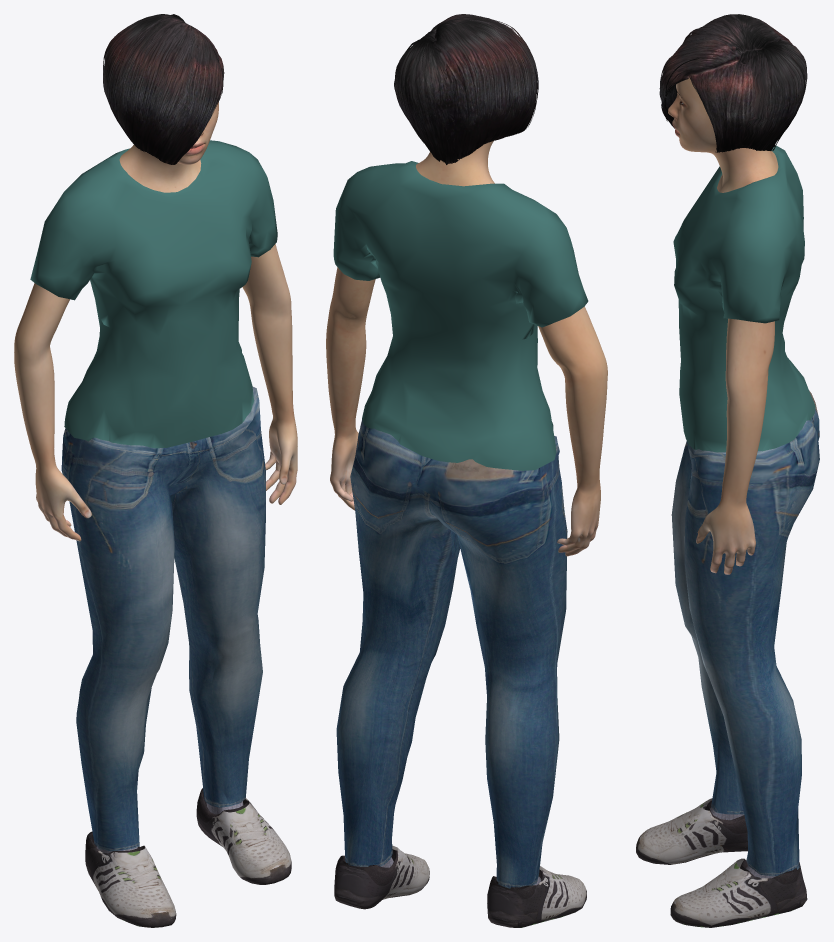
Rendered from riley-real.glb.
The picture shows the model from 3 angles, left to right: view 1: azimuth 30°, elevation 25°; view 2: azimuth 150°, elevation 25°; view 3: azimuth 270°, elevation 25°; orthographic projection. The views are drawn at different scales.
Visible parts, largest first — view 1: female_casualsuit01, Riley | anatomical body, bob01, shoes05; view 2: female_casualsuit01, Riley | anatomical body, bob01, shoes05; view 3: female_casualsuit01, Riley | anatomical body, bob01, shoes05.
Part boxes in pixels (bbox=[...]): female_casualsuit01: bbox=[30, 140, 277, 851]; Riley | anatomical body: bbox=[14, 102, 297, 541]; bob01: bbox=[103, 14, 224, 164]; shoes05: bbox=[85, 788, 291, 927]; female_casualsuit01: bbox=[333, 161, 588, 888]; Riley | anatomical body: bbox=[326, 140, 607, 556]; bob01: bbox=[394, 14, 538, 164]; shoes05: bbox=[334, 845, 586, 927]; female_casualsuit01: bbox=[671, 145, 819, 876]; Riley | anatomical body: bbox=[668, 77, 778, 574]; bob01: bbox=[659, 14, 807, 152]; shoes05: bbox=[636, 798, 807, 927].
Bounding box in the file's own units: 0.5434 × 1.67 × 0.324.
Materials: 9 (8 with a texture image).
